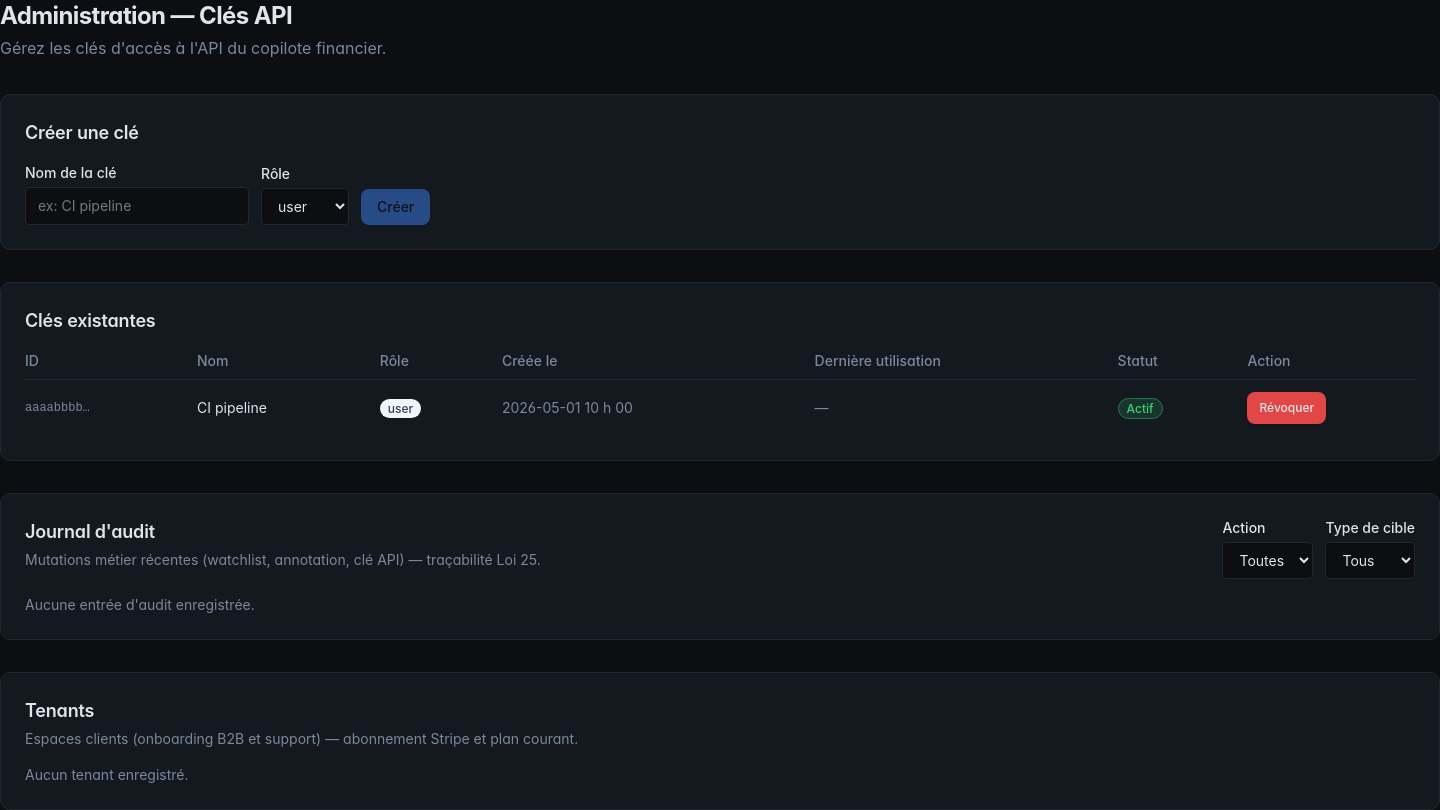
Scenario: AdminPage › affiche la clé générée après création (data-testid="new-key-display")
Type "Nouvelle" into the field labelled "Nom de la clé" at (137, 206), box left=25, top=187, right=249, bottom=225
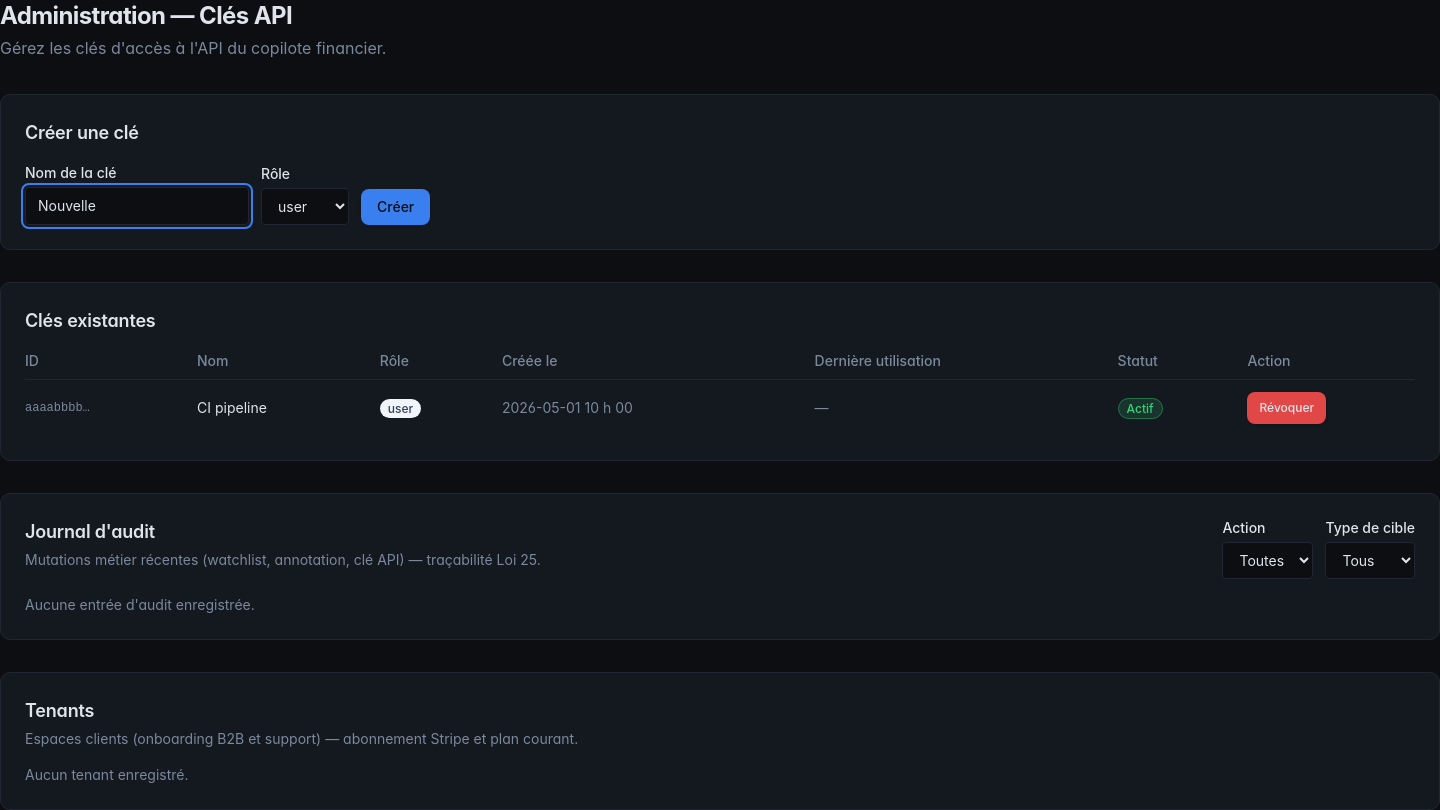
Click the button "Créer" at (396, 207), box left=361, top=189, right=430, bottom=225
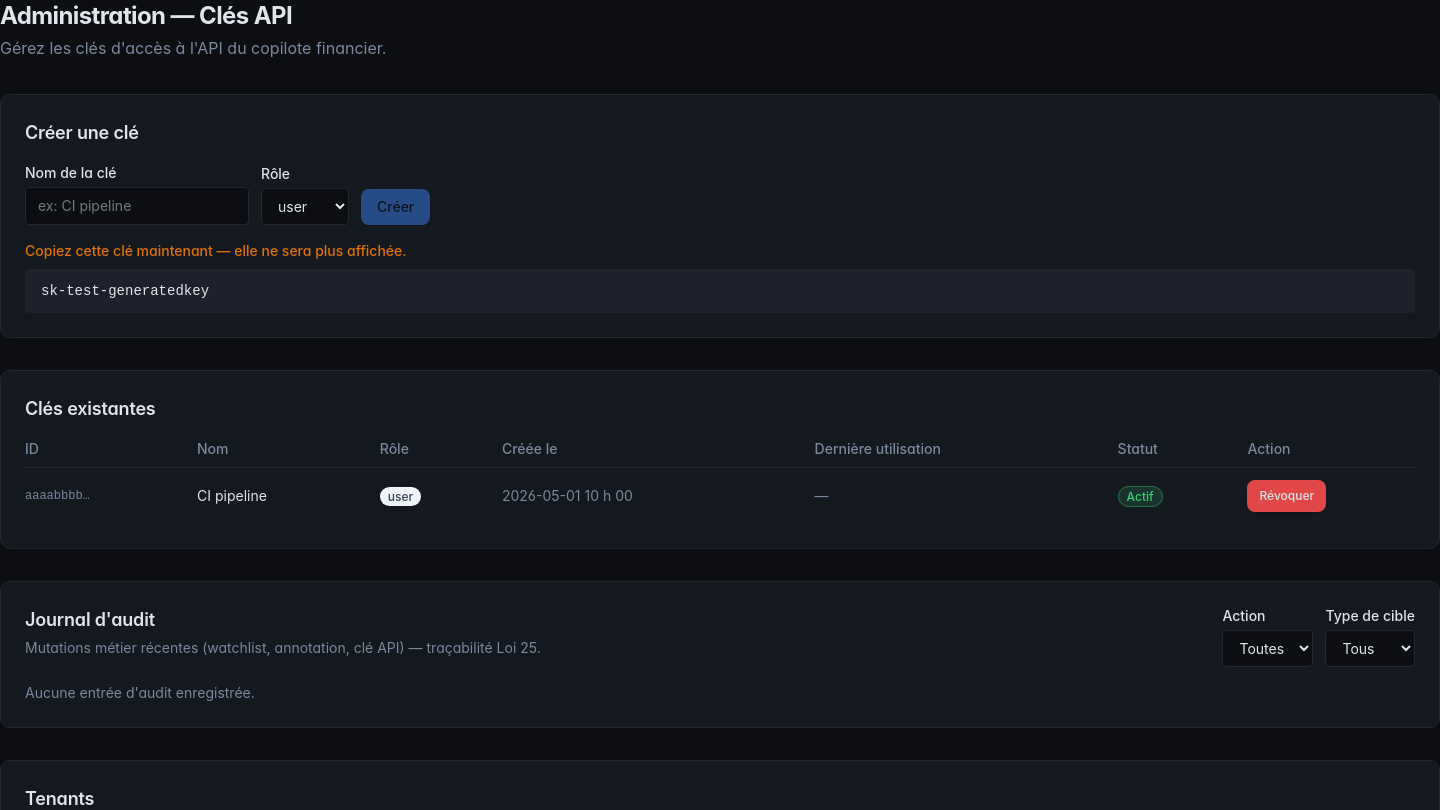
Expected: the text with test id "new-key-display" reads "sk-test-generatedkey", left=41, top=283, right=209, bottom=299
